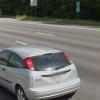Car: (5, 33, 84, 99)
